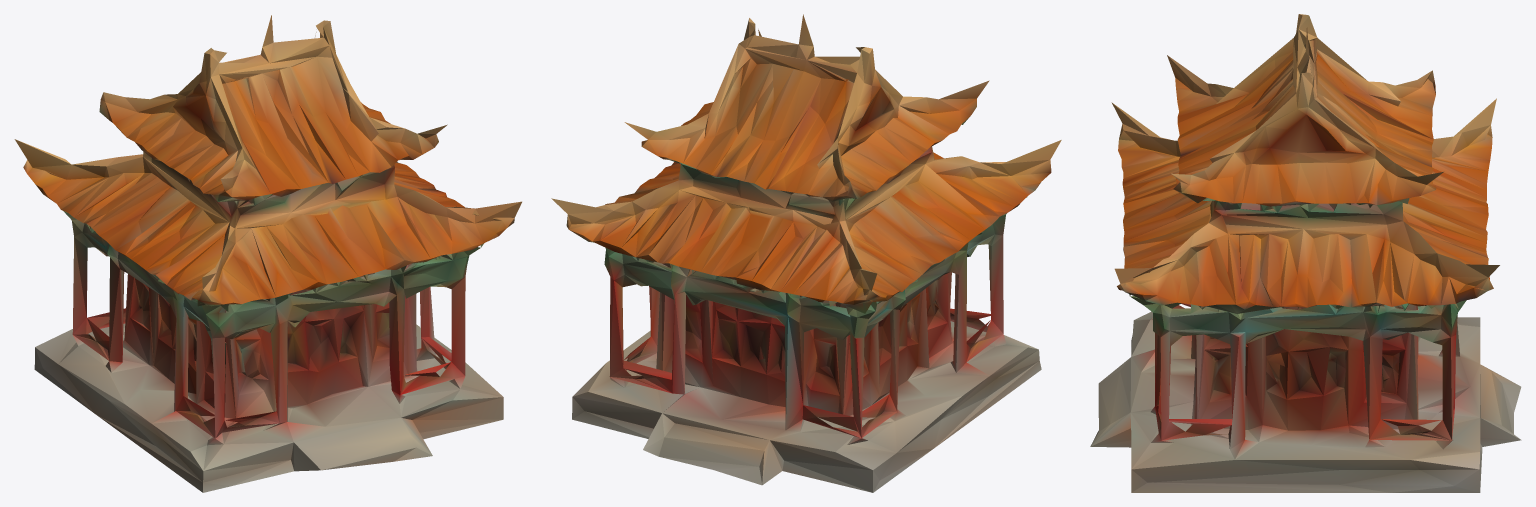
Rendered from lib_pavilion2.vc.glb.
3 renders of one model, left to right at view 1: azimuth 30°, elevation 25°; view 2: azimuth 150°, elevation 25°; view 3: azimuth 270°, elevation 25°, orthographic. The views are drawn at different scales.
Parts seen in each view (by area): view 1: lib_pavilion2; view 2: lib_pavilion2; view 3: lib_pavilion2.
Boxes of the visible parts, left/top/right/bottom form: lib_pavilion2: left=14, top=15, right=521, bottom=492; lib_pavilion2: left=551, top=14, right=1061, bottom=492; lib_pavilion2: left=1090, top=14, right=1521, bottom=492.
Bounding box in the file's own units: 1.78 × 1.99 × 1.98.
